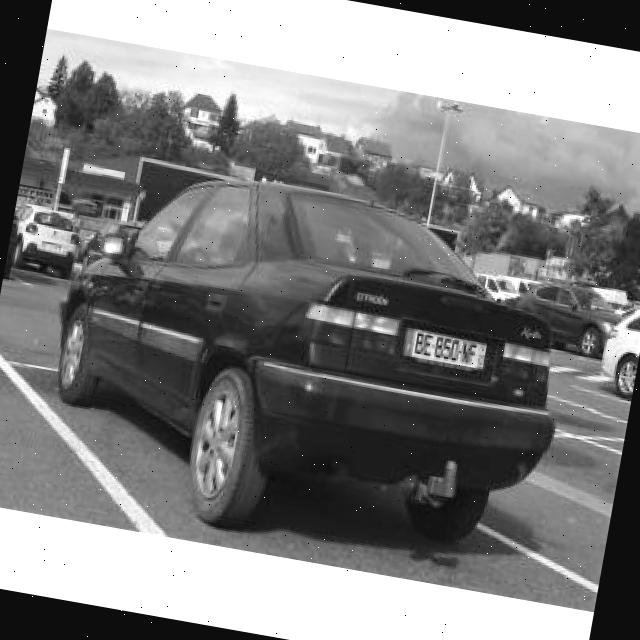EU: (395, 326, 488, 372)
France: (401, 326, 415, 356)
